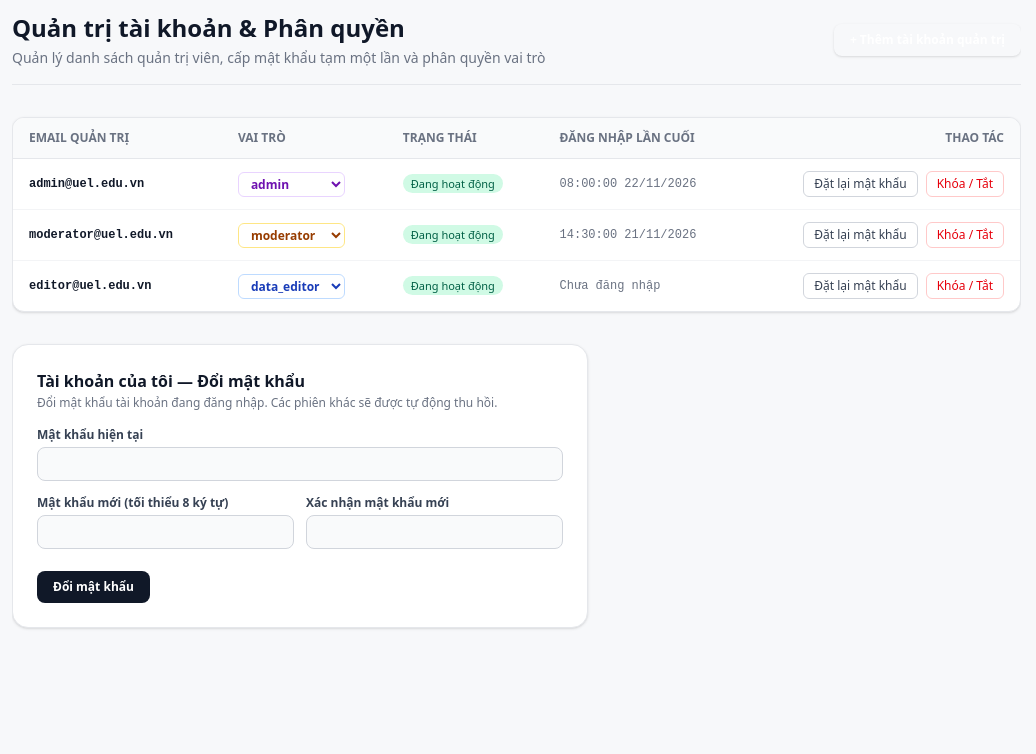
Test case: Brief A6: Hệ thống, Nhật ký, Tài khoản & Cài đặt quản trị › 3. Trang Tài khoản quản trị & Phân quyền (/admin/users) › đặt lại mật khẩu của người dùng hiển thị mật khẩu tạm mới
expect the text "moderator@uel.edu.vn" is shown: met, box left=13, top=210, right=222, bottom=260
Click the button "Đặt lại mật khẩu" in the row of "moderator@uel.edu.vn" at (860,235), box left=803, top=222, right=918, bottom=248
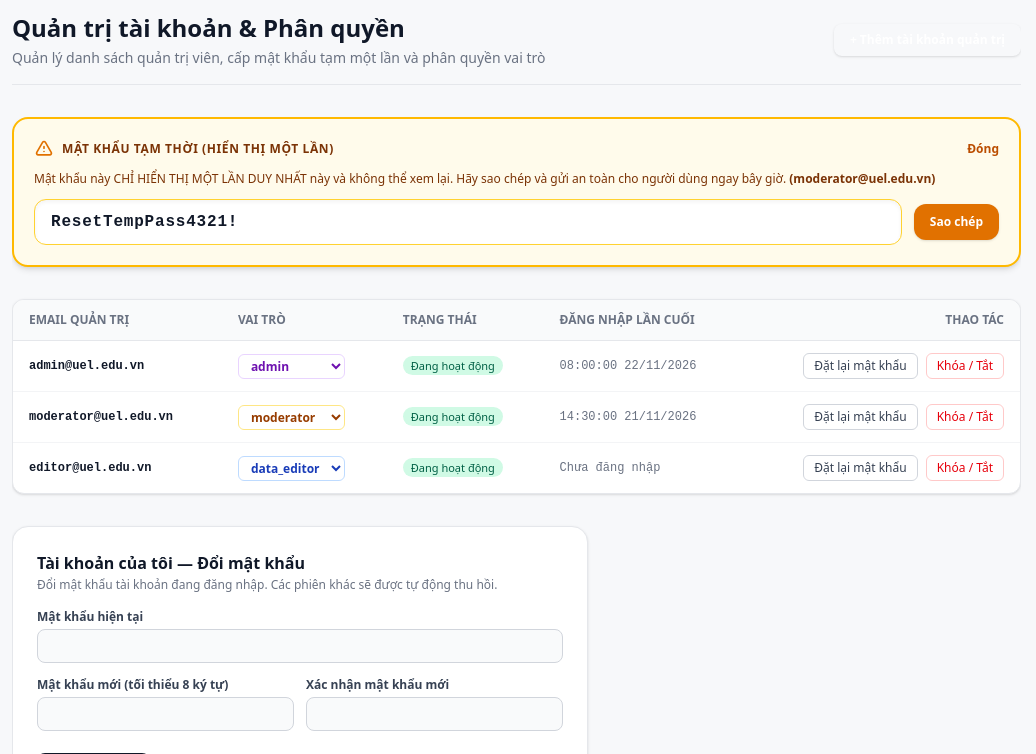
expect the text "MẬT KHẨU TẠM THỜI (HIỂN THỊ MỘT LẦN)" is shown: met, box left=34, top=139, right=334, bottom=159
expect the field showing "ResetTempPass4321!" is shown: met, box left=34, top=199, right=902, bottom=245
